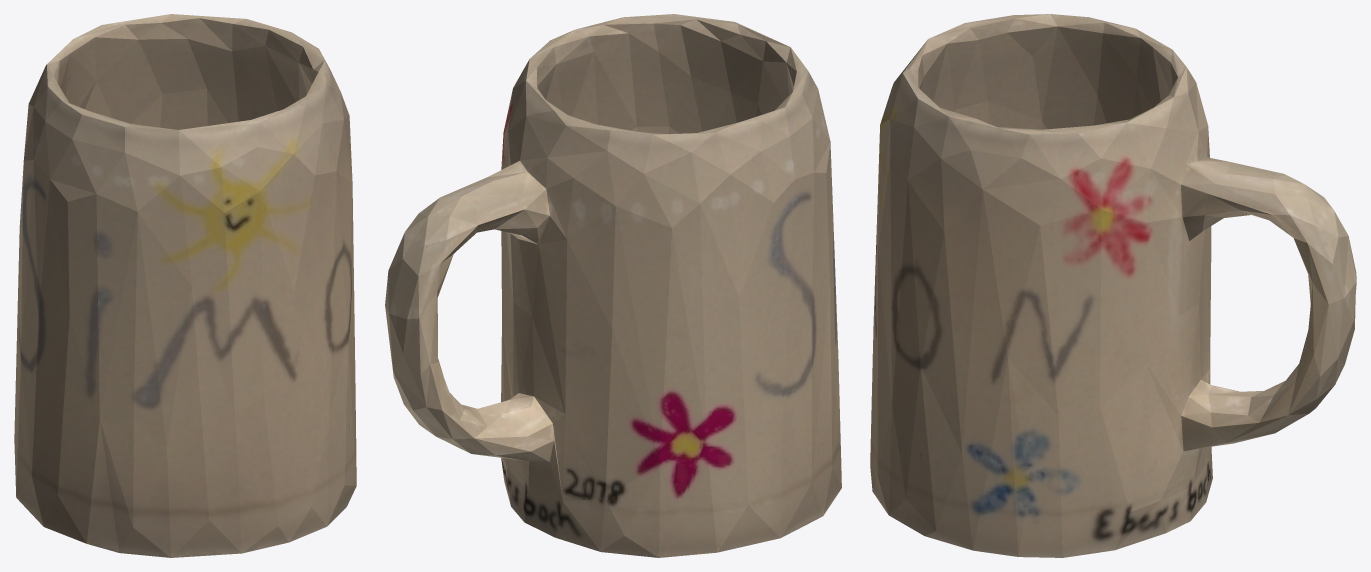
The model's file is DB201AE9-7863-BF40-BBCA-E984C8C61FC7_512.glb.
3 views of the same model, side by side, from view 1: azimuth 30°, elevation 25°; view 2: azimuth 150°, elevation 25°; view 3: azimuth 270°, elevation 25° (orthographic).
Parts seen in each view (by area): view 1: Krug Simon_0.8k_512; view 2: Krug Simon_0.8k_512; view 3: Krug Simon_0.8k_512.
Boxes of the visible parts, x1,y1,x2,y2 form: Krug Simon_0.8k_512: (14,14,356,557); Krug Simon_0.8k_512: (385,14,841,557); Krug Simon_0.8k_512: (870,14,1356,557).
Bounding box in the file's own units: 0.099 × 0.1342 × 0.1411.
1 material, 1 textured.
